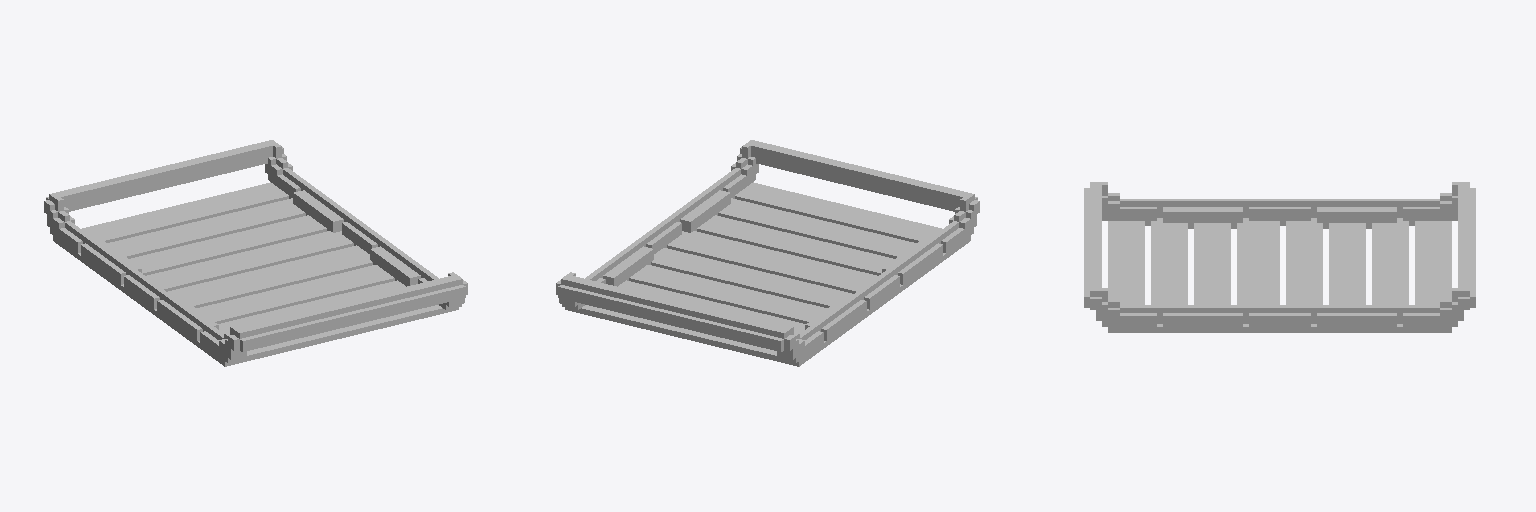
File: padnos.obj
3 renders of one model, left to right at view 1: azimuth 30°, elevation 25°; view 2: azimuth 150°, elevation 25°; view 3: azimuth 270°, elevation 25°, orthographic.
Parts seen in each view (by area): view 1: object 1; view 2: object 1; view 3: object 1.
Part boxes in pixels (x1,y1,x2,y2): object 1: (44,140,467,366); object 1: (556,140,979,366); object 1: (1084,182,1475,332).
Bounding box in the file's own units: 4.4 × 0.7 × 6.4.